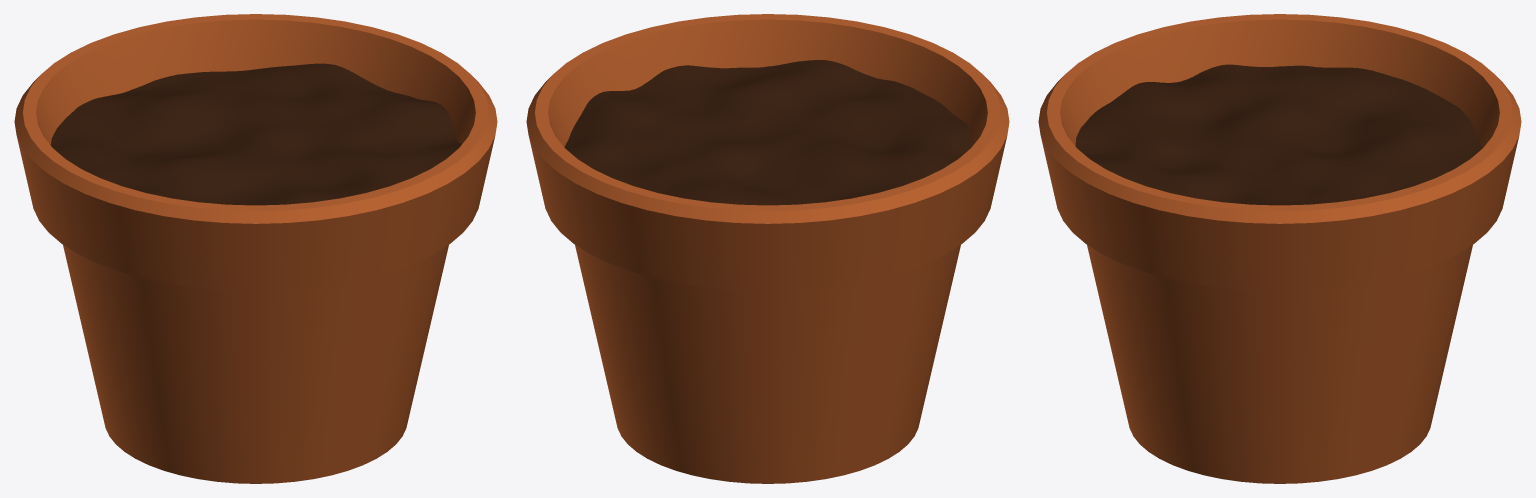
File: pot.fbx
The picture shows the model from 3 angles, left to right: view 1: azimuth 30°, elevation 25°; view 2: azimuth 150°, elevation 25°; view 3: azimuth 270°, elevation 25°; orthographic projection.
Visible parts, largest first — view 1: Pot, Soil; view 2: Pot, Soil; view 3: Pot, Soil.
Boxes of the visible parts, bbox=[...] form: Pot: bbox=[14, 14, 497, 483]; Soil: bbox=[50, 63, 461, 205]; Pot: bbox=[526, 14, 1009, 483]; Soil: bbox=[564, 60, 971, 205]; Pot: bbox=[1038, 14, 1521, 483]; Soil: bbox=[1075, 64, 1481, 205].
Size of the model in its own units: 44.15 by 31 by 44.15.
